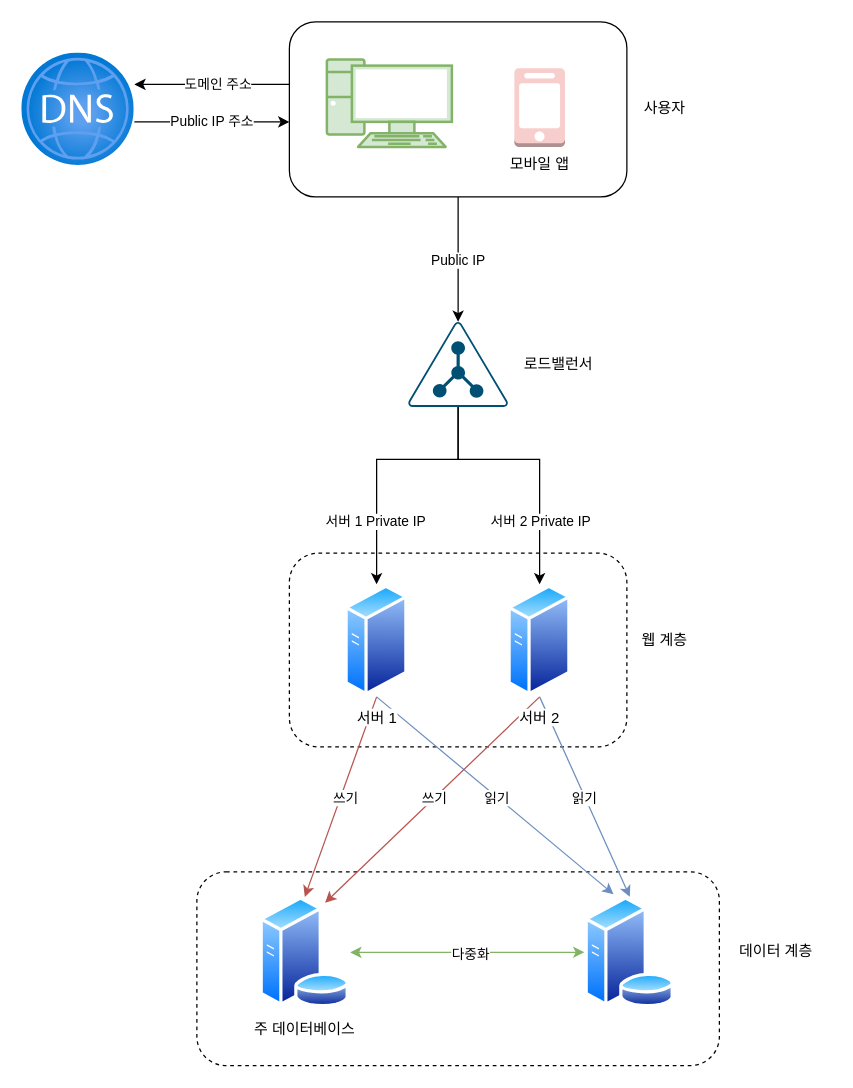
Some shapes in this 853 by 1088 pixel diagram are drawn without their labels. Here are the shapes that lost their labels. From the top down, the centre of each, then its label:
At point 389,102: "웹 브라우저".
At point 629,951: "부 데이터베이스".
